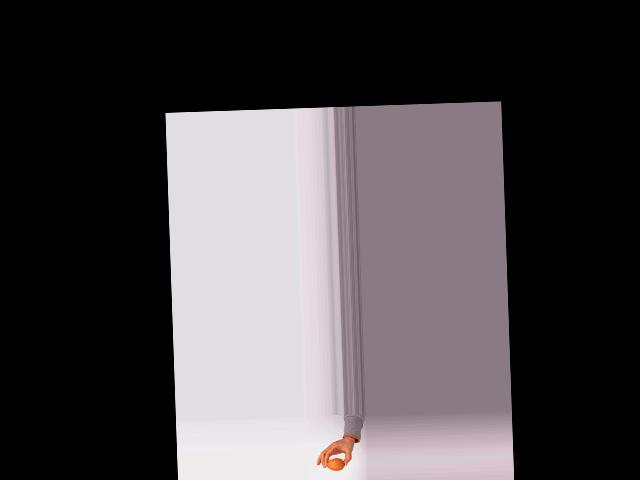egg: (326, 458, 344, 471)
